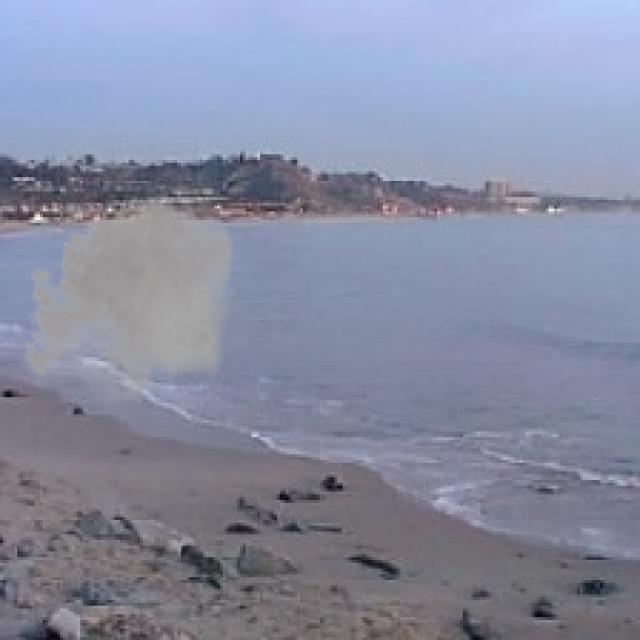smoke: (17, 186, 243, 414)
